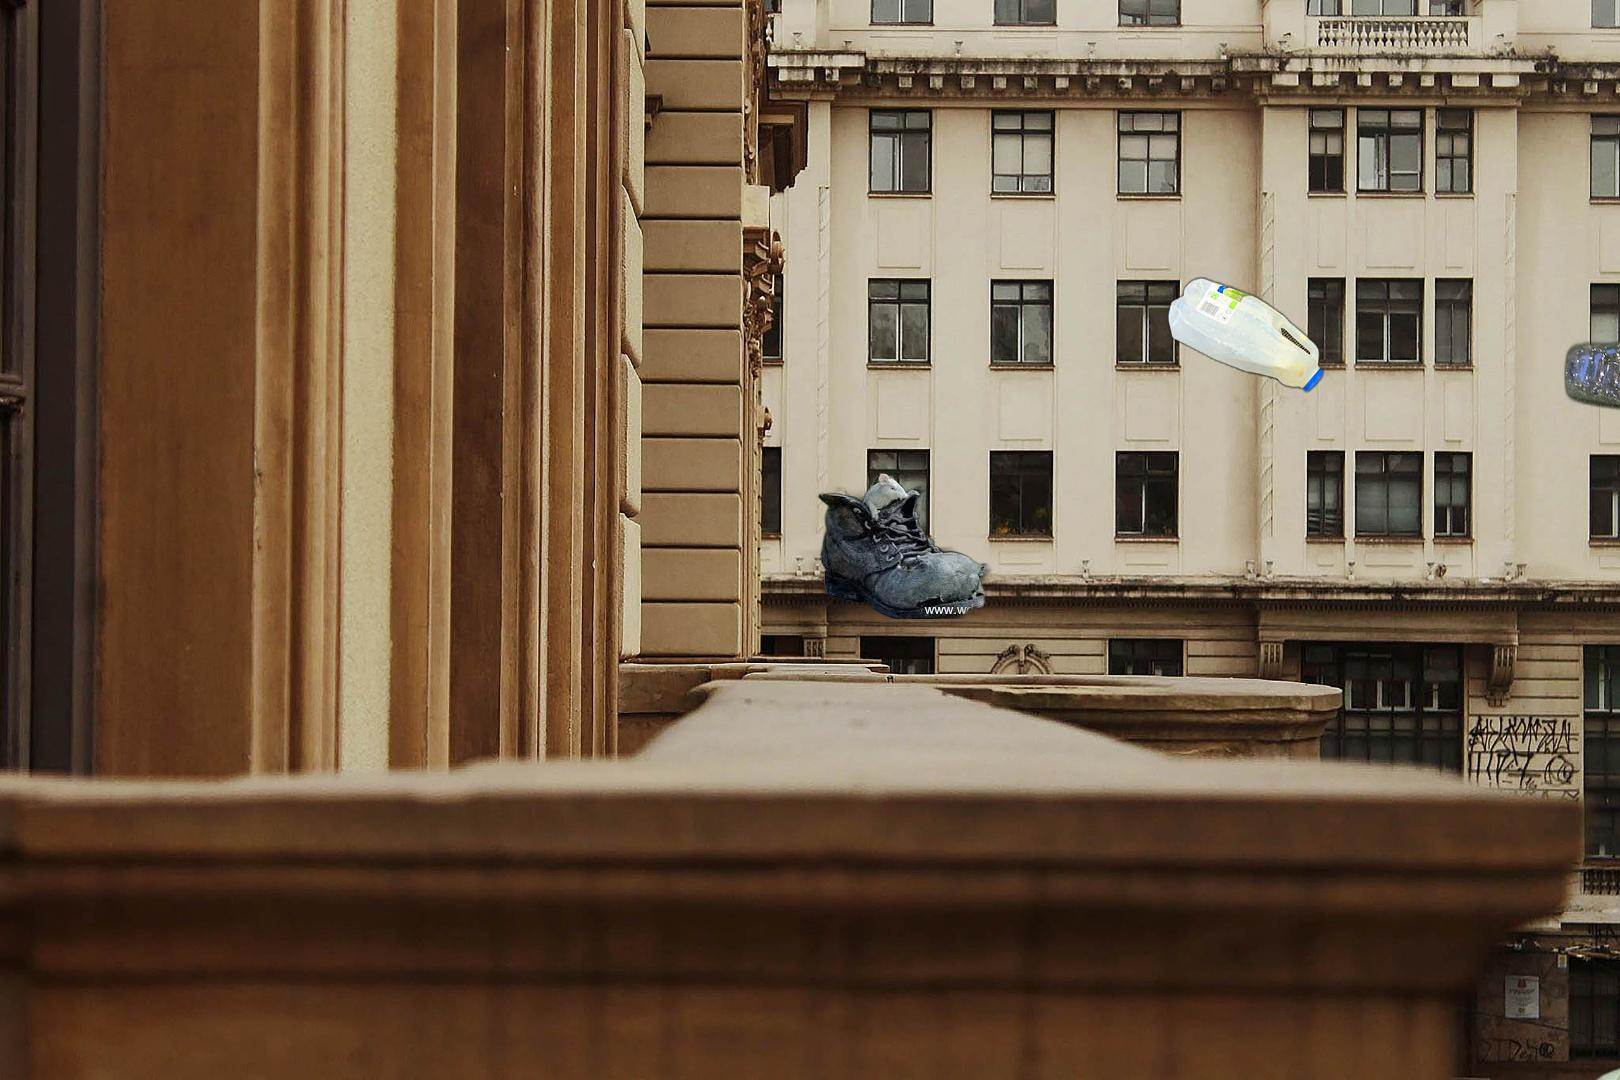metal-cans: (1578, 1058, 1620, 1080)
plastic-bottles: (1163, 271, 1327, 398), (1561, 335, 1620, 419)
shoes: (814, 468, 1022, 620)
